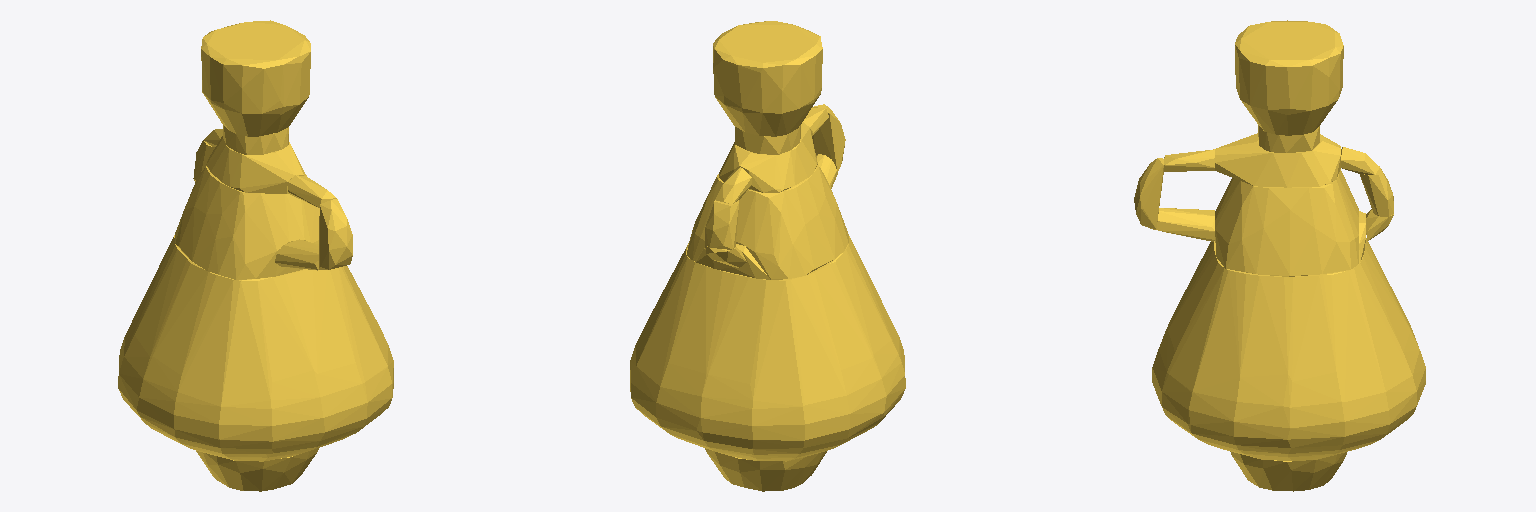
URDF robot description (13r.urdf):
<?xml version="1.0" ?>
<robot name="13r.urdf">
	<link name="baseLink">
		<inertial>
			<origin rpy="0 0 0" xyz="0 0 0"/>
				<mass value="0.1"/>
				<inertia ixx="6e-5" ixy="0" ixz="0" iyy="6e-5" iyz="0" izz="6e-5"/>
		</inertial>
		<visual>
			<origin rpy="0 0 0" xyz="0 0 0"/>
			<geometry>
				<mesh filename="../shapes/13r.obj" scale="1.0 1.0 1.0"/>
			</geometry>
			<material name="yellow">
				<color rgba="0.98 0.84 0.35 1"/>
			</material>
		</visual>
		<collision>
			<origin rpy="0 0 0" xyz="0 0 0"/>
			<geometry>
				<mesh filename="../shapes/13r.obj" scale="1.0 1.0 1.0"/>
			</geometry>
		</collision>
	</link>
</robot>

--- Facts derived from the render (not from the file) ---
Views: 3 orthographic renders of the robot side by side, from view 1: azimuth 30°, elevation 25°; view 2: azimuth 150°, elevation 25°; view 3: azimuth 270°, elevation 25°.
Robot: 13r.urdf — 1 links, 0 joints (none); root link baseLink; default pose: every joint at zero.
Links seen in each view (by area): view 1: baseLink; view 2: baseLink; view 3: baseLink.
Link boxes in pixels (bbox=[...]): baseLink: bbox=[118, 20, 393, 491]; baseLink: bbox=[630, 21, 905, 491]; baseLink: bbox=[1134, 20, 1425, 491].
Bounding box of the posed robot: 6.78 × 7.24 × 11.83 m (x, y, z).
Meshes: 1 distinct files referenced, 1 mesh visuals loaded (1 OBJ).